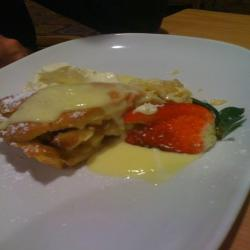apple_pie: (5, 77, 138, 167)
